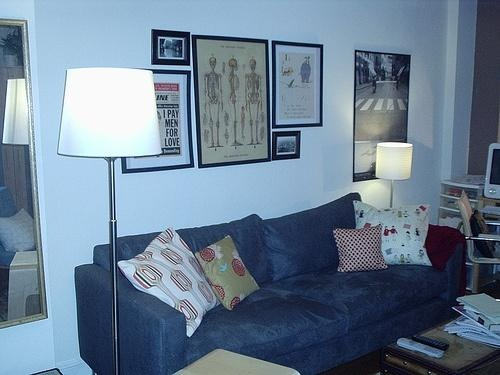chair: (456, 192, 500, 266)
sofa: (81, 192, 475, 373)
tvmonitor: (486, 143, 500, 201)
